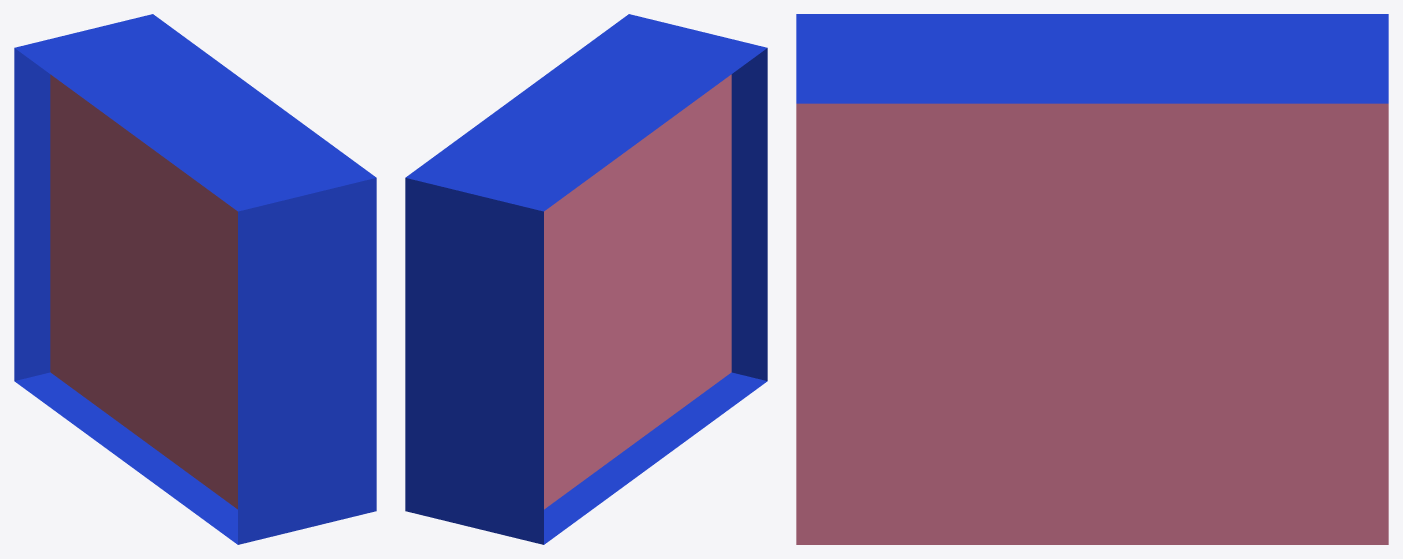
Rendered from Window_Lin.fbx.
3 renders of one model, left to right at view 1: azimuth 30°, elevation 25°; view 2: azimuth 150°, elevation 25°; view 3: azimuth 270°, elevation 25°, orthographic. The views are drawn at different scales.
Visible parts, largest first — view 1: Cube; view 2: Cube; view 3: Cube.
Boxes of the visible parts, bbox=[...] form: Cube: bbox=[14, 14, 376, 544]; Cube: bbox=[405, 14, 767, 544]; Cube: bbox=[796, 14, 1388, 544].
Bounding box in the file's own units: 73.69 × 169 × 206.
